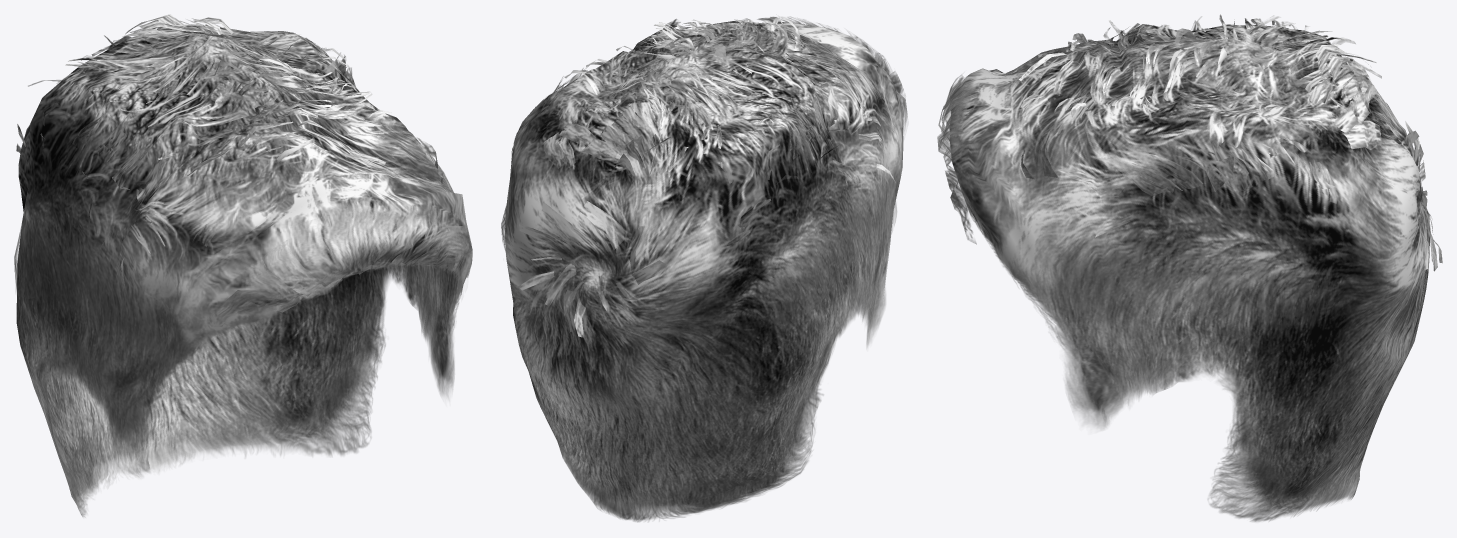
File: hair_short01.gltf
The picture shows the model from 3 angles, left to right: view 1: azimuth 30°, elevation 25°; view 2: azimuth 150°, elevation 25°; view 3: azimuth 270°, elevation 25°; orthographic projection. The views are drawn at different scales.
Visible parts, largest first — view 1: hair_short01; view 2: hair_short01; view 3: hair_short01.
Part boxes in pixels (bbox=[...]): hair_short01: bbox=[14, 14, 472, 517]; hair_short01: bbox=[501, 14, 907, 522]; hair_short01: bbox=[937, 14, 1442, 521].
Size of the model in its own units: 0.1555 by 0.2054 by 0.2066.
Materials: 1 (1 with a texture image).
